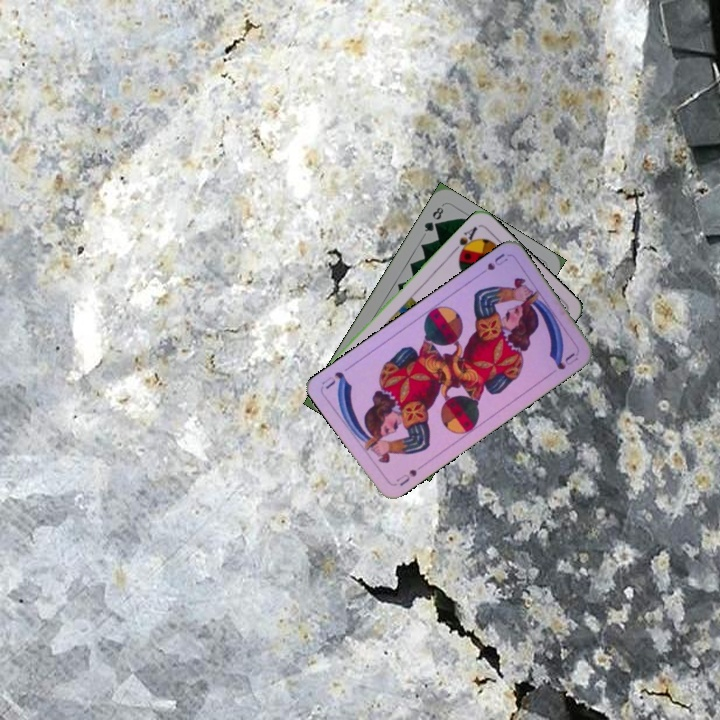G8: (420, 203, 446, 234)
SA: (449, 222, 480, 259)
SU: (474, 249, 510, 279), (390, 460, 426, 489)
